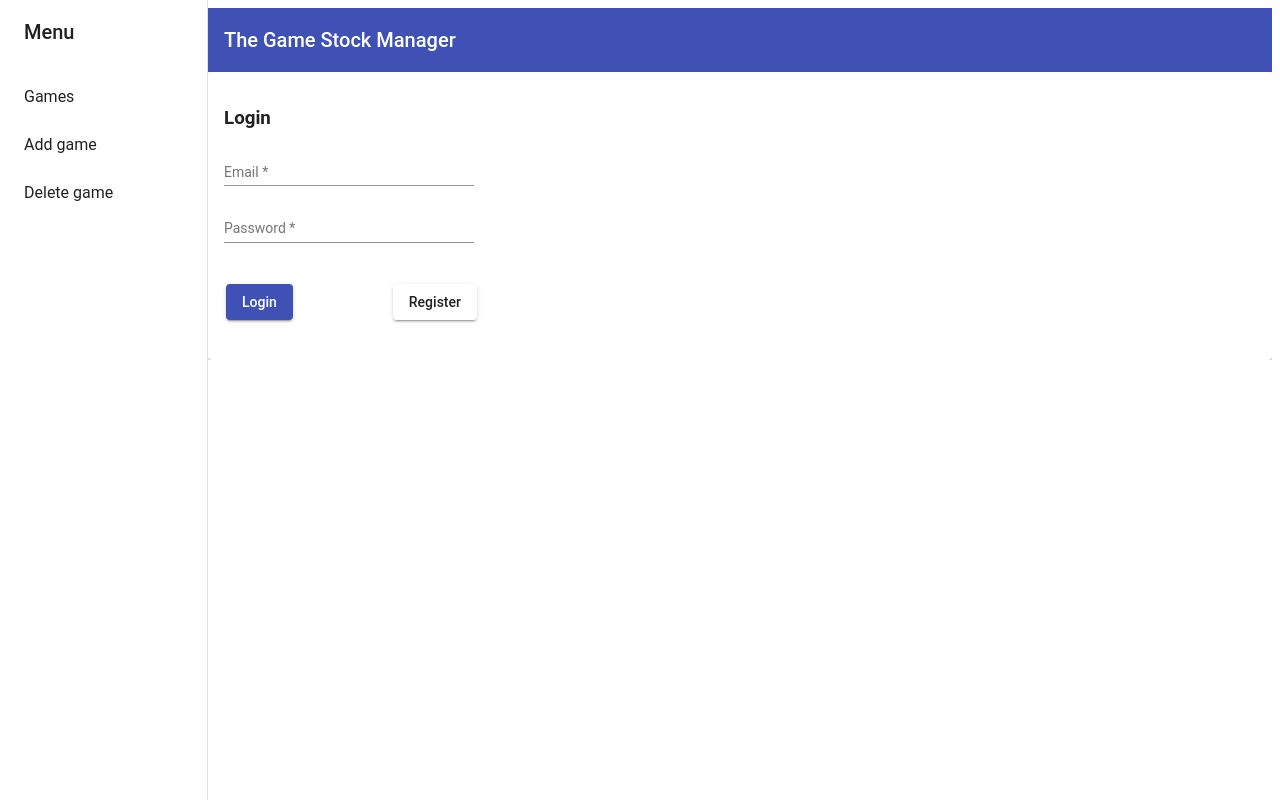
Test: login test › failed wrong password
Type "Nathan-Drake@gmail.com" into the field with test id "login-email" at (349, 173), box 224,165 -> 474,181
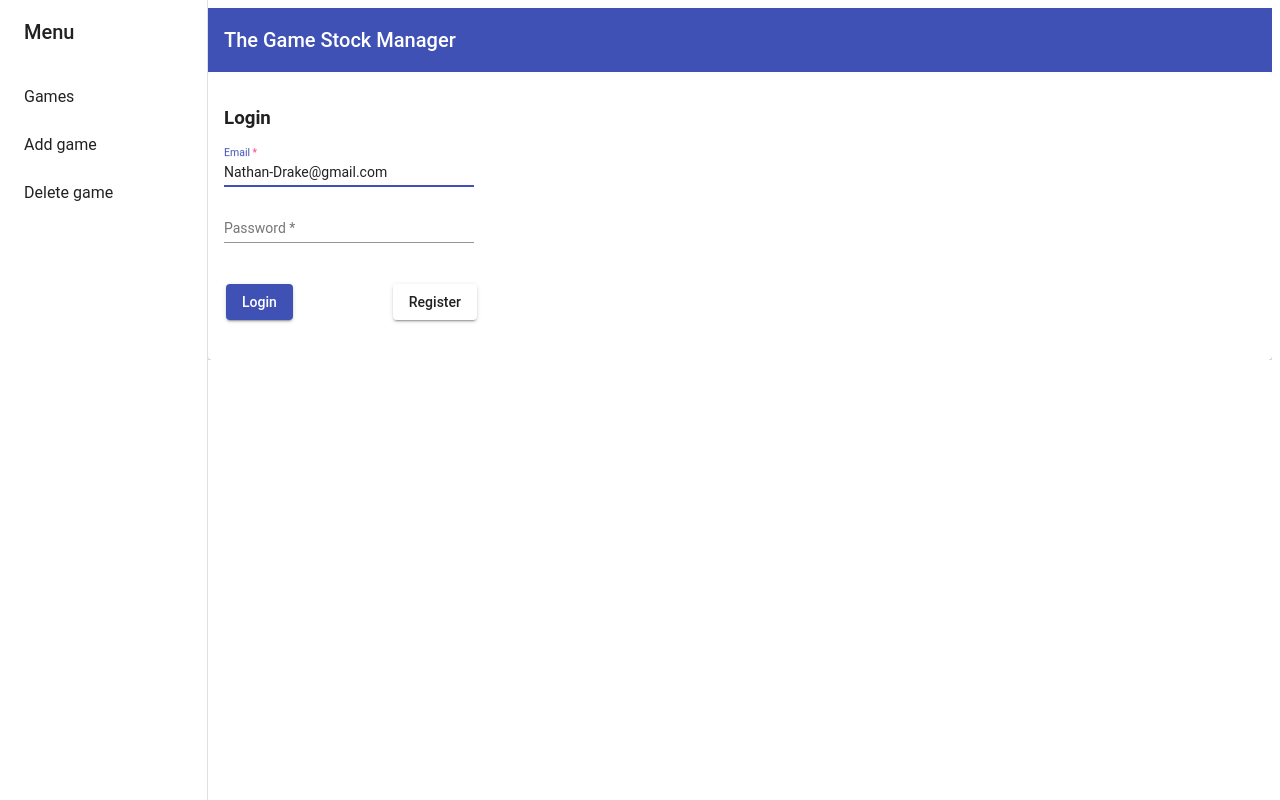
Type "Nath@n123" into the password field with test id "login-password" at (349, 229), box 224,221 -> 474,237
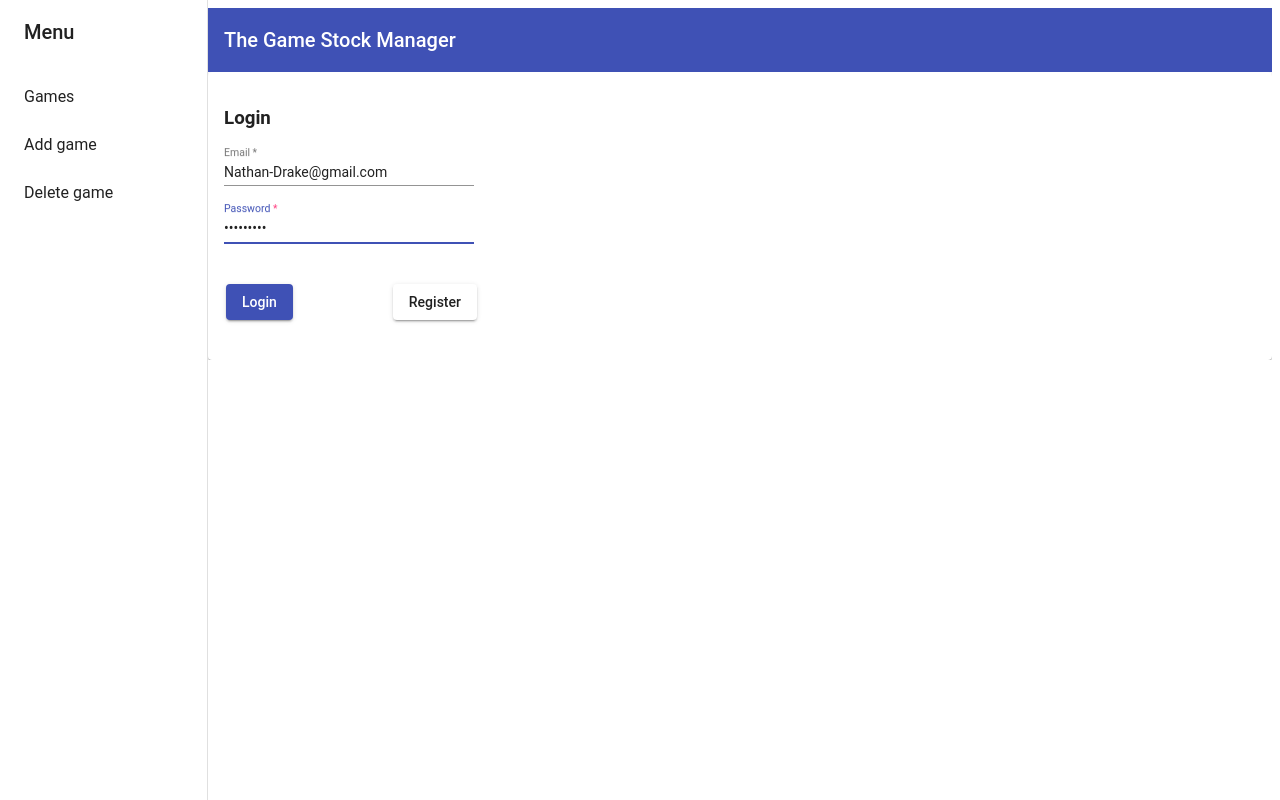
Click the button with test id "login-button" at (260, 302), box 226,284 -> 293,320
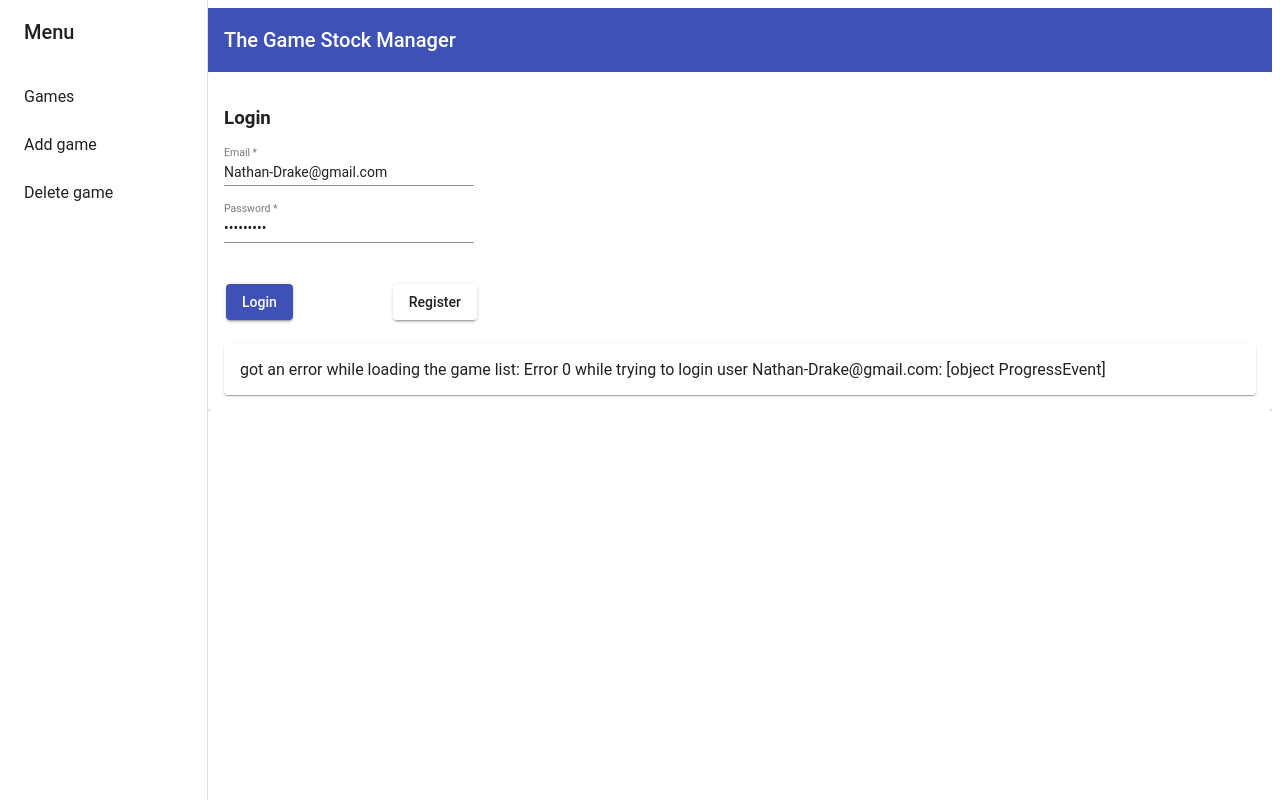
Expected: the text with test id "appError" is shown, 224,344 -> 1256,395
